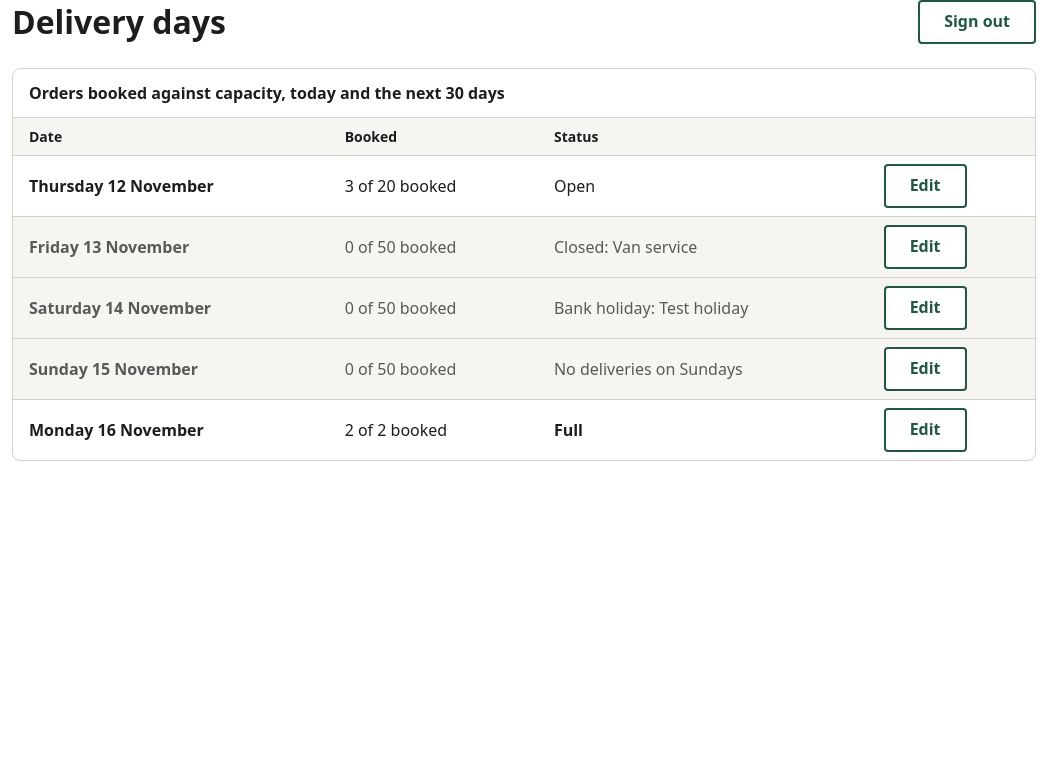
Test: AdminPageComponent › editing a day › saves, updates the row, confirms it and returns focus to the Edit button
Click the button "Edit" in the row of "Thursday 12 November": x=925, y=186 [884,164,966,208]
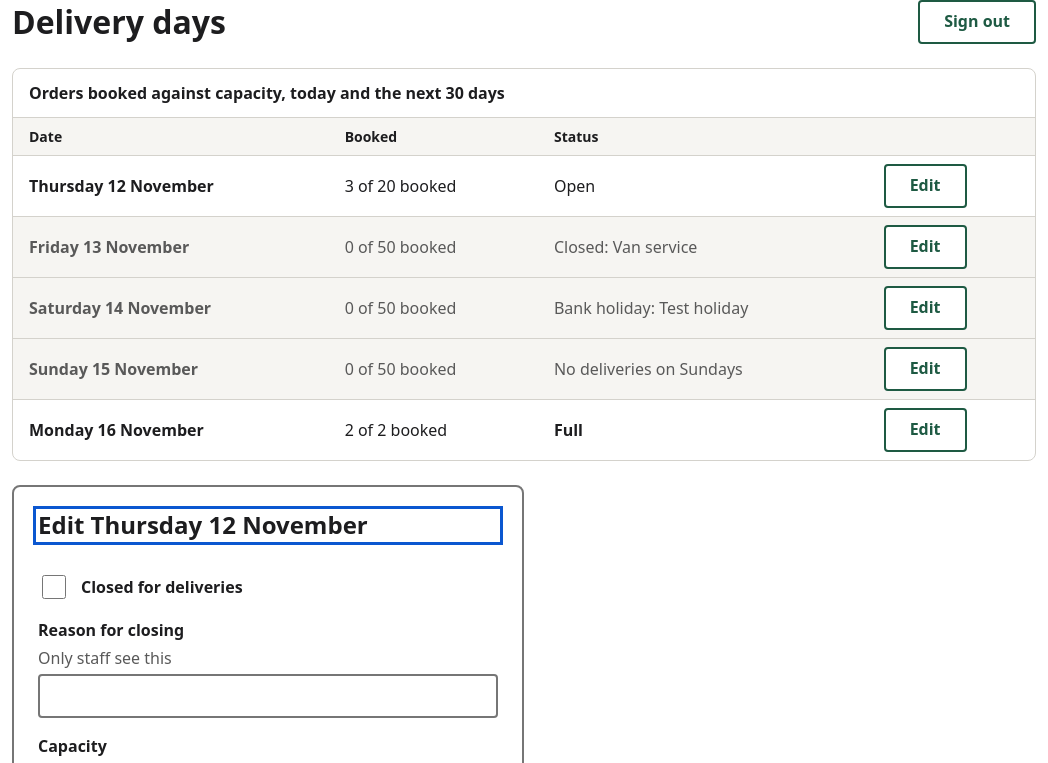
Click the checkbox labelled "Closed for deliveries": x=54, y=587 [42,575,66,599]
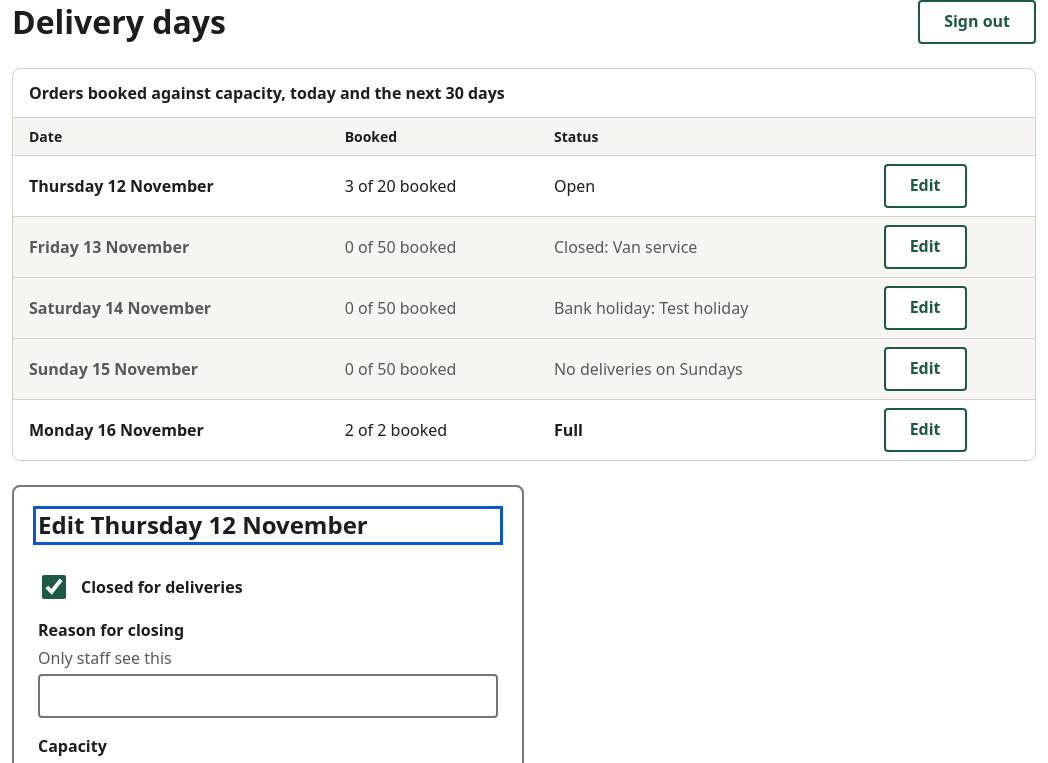
In the field named "closed_reason": x=268, y=696 [38,674,498,718], type "Van service"
(page scrolled)
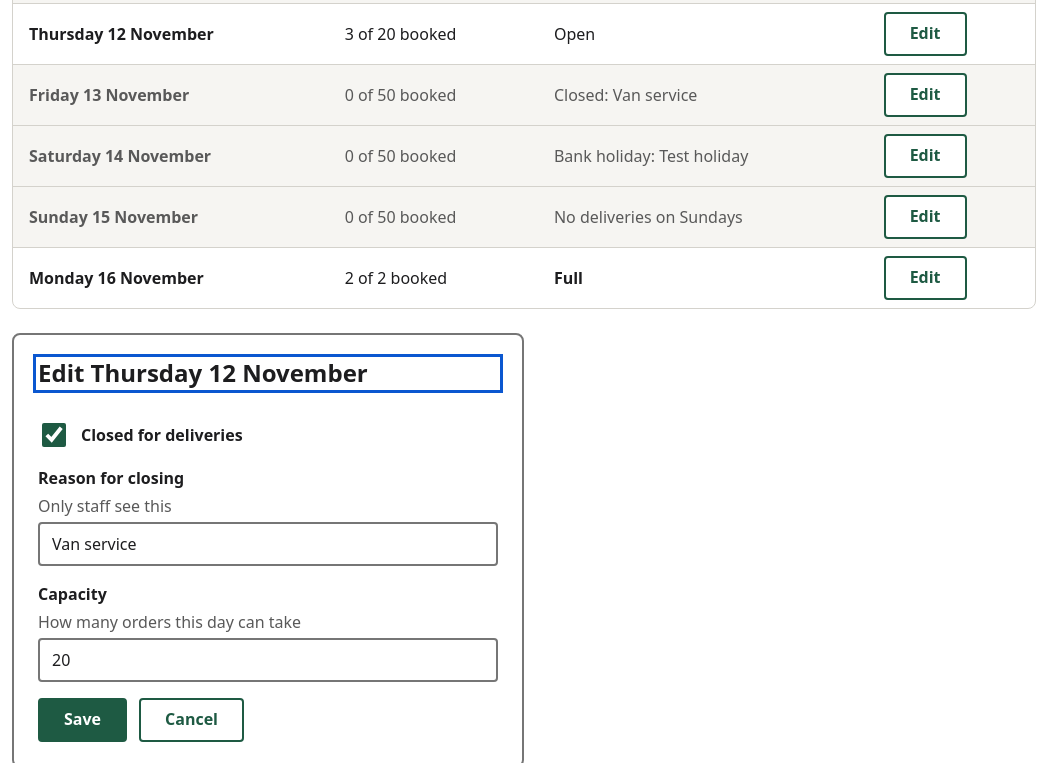
Click the button "Save": x=82, y=720 [38,698,127,742]
(page scrolled)
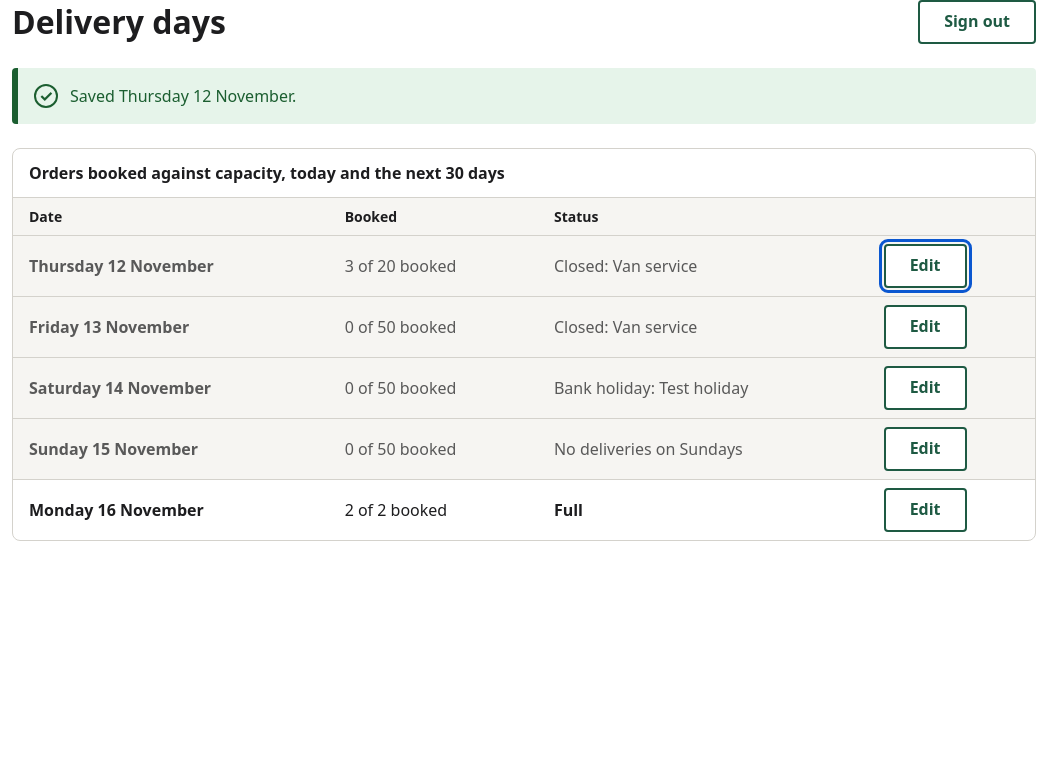
Now the cell "Closed: Van service" next to "3 of 20 booked" is shown, box [554,255,697,277]
Now the heading with id "edit-day-heading" is gone
Now the text "Saved Thursday 12 November." is shown, box [70,84,296,108]
